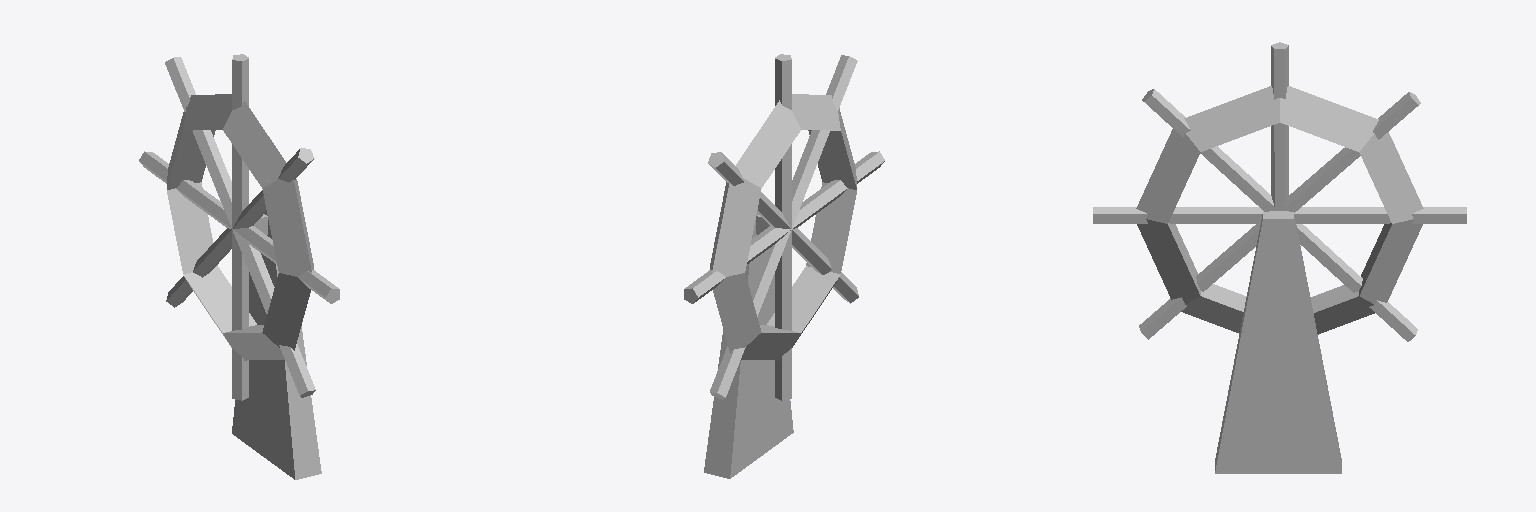
Rendered from wheel.obj.
The picture shows the model from 3 angles: view 1: azimuth 30°, elevation 25°; view 2: azimuth 150°, elevation 25°; view 3: azimuth 270°, elevation 25°; orthographic projection.
Parts seen in each view (by area): view 1: obj.wheel.000_Torus; view 2: obj.wheel.000_Torus; view 3: obj.wheel.000_Torus.
Boxes of the visible parts, box(x1,y1,x2,y2) form: obj.wheel.000_Torus: box(139, 54, 339, 479); obj.wheel.000_Torus: box(684, 54, 884, 478); obj.wheel.000_Torus: box(1093, 42, 1466, 473).
Bounding box in the file's own units: 0.1911 × 1.11 × 0.9314.